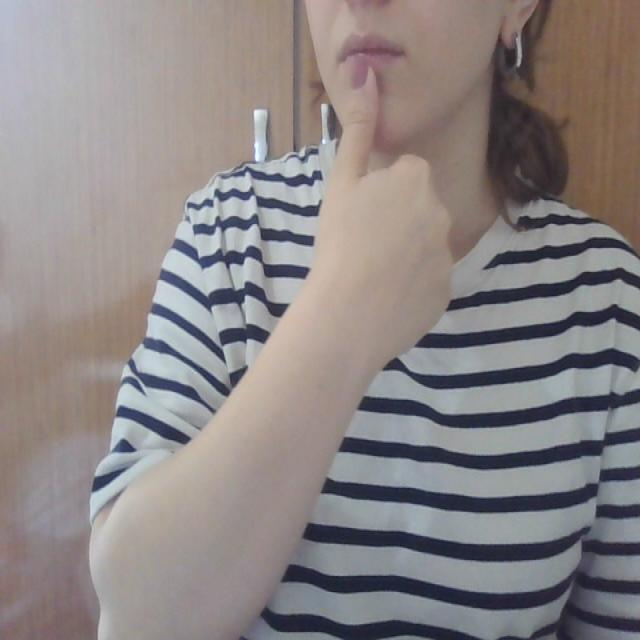Baba: (322, 8, 408, 152)
